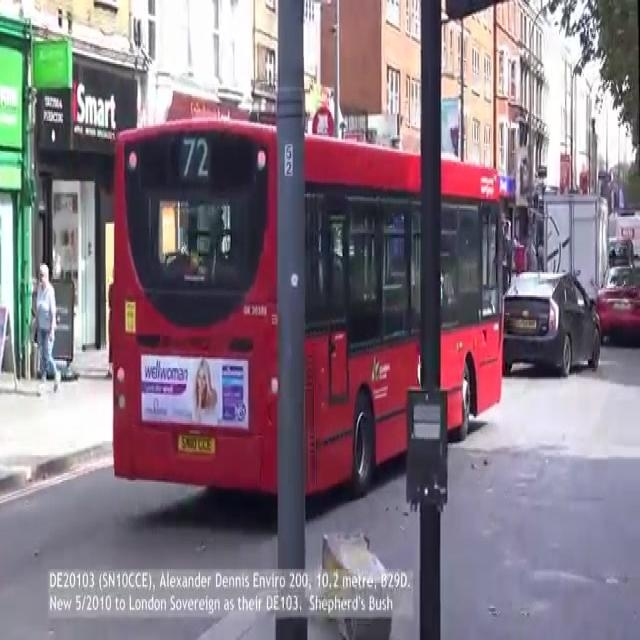Bus: (79, 108, 537, 528)
